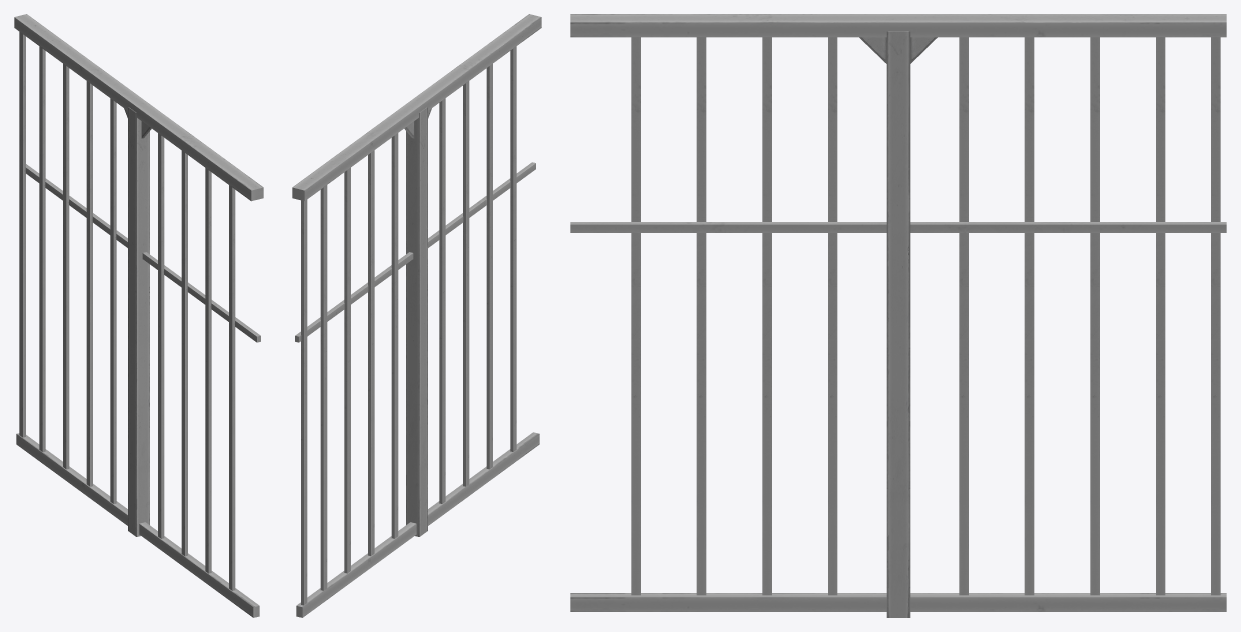
The model's file is MB_Fence_F_2m.fbx.
3 views of the same model, side by side, from view 1: azimuth 30°, elevation 25°; view 2: azimuth 150°, elevation 25°; view 3: azimuth 270°, elevation 25° (orthographic). The views are drawn at different scales.
Parts seen in each view (by area): view 1: MB_Fence_F_2m; view 2: MB_Fence_F_2m; view 3: MB_Fence_F_2m.
Boxes of the visible parts, x1,y1,x2,y2 form: MB_Fence_F_2m: (14, 14, 263, 617); MB_Fence_F_2m: (292, 14, 541, 617); MB_Fence_F_2m: (570, 14, 1226, 617).
Bounding box in the file's own units: 6.53 × 200 × 200.
